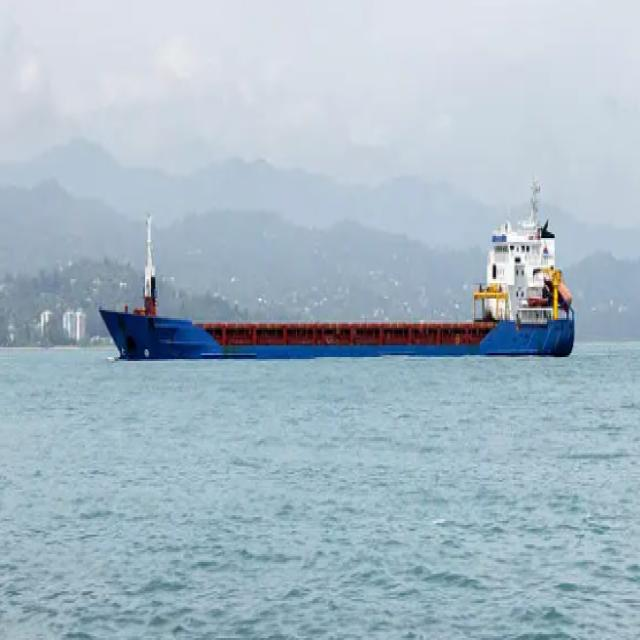cargoship: (99, 174, 578, 363)
